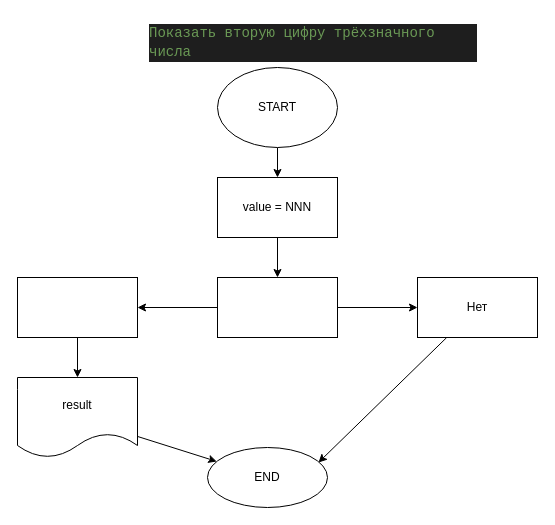
This 555x525 diagram has some shape labels left out. The box of each missing label's shape, as (x1, y1, x2, y2) in pixels:
value % 100 / 10: (216, 276, 338, 338)
Да: (16, 276, 138, 338)
